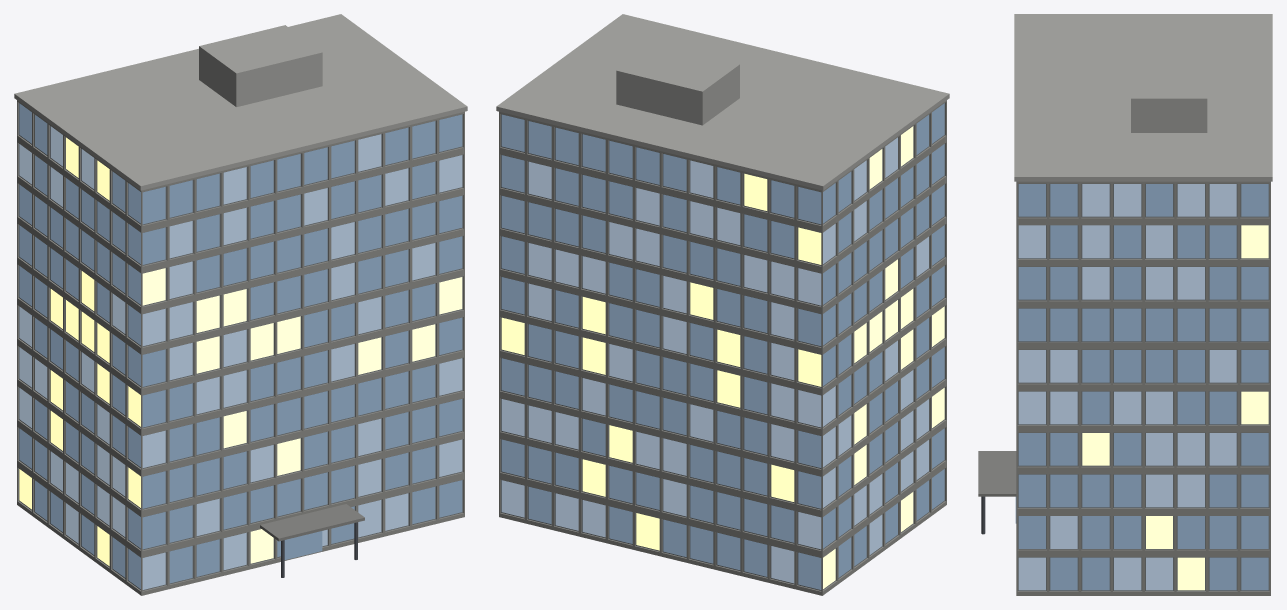
Rendered from office_glass.glb.
3 renders of one model, left to right at view 1: azimuth 30°, elevation 25°; view 2: azimuth 150°, elevation 25°; view 3: azimuth 270°, elevation 25°, orthographic. The views are drawn at different scales.
Visible parts, largest first — view 1: curtain_front, curtain_left, roof_edge, roof_unit, entrance_canopy, entrance_glass; view 2: curtain_back, curtain_left, roof_edge, roof_unit; view 3: curtain_right, roof_edge, roof_unit, entrance_canopy.
Boxes of the visible parts, box(x1,y1,x2,y2) form: curtain_front: box(141, 111, 464, 595); curtain_left: box(17, 100, 141, 595); roof_edge: box(14, 14, 467, 190); roof_unit: box(199, 25, 322, 107); entrance_canopy: box(260, 504, 364, 541); entrance_glass: box(284, 531, 322, 559); curtain_back: box(499, 111, 822, 595); curtain_left: box(822, 100, 946, 595); roof_edge: box(496, 14, 949, 190); roof_unit: box(616, 43, 739, 125); curtain_right: box(1016, 181, 1270, 595); roof_edge: box(1014, 14, 1272, 181); roof_unit: box(1131, 55, 1207, 132); entrance_canopy: box(978, 451, 1016, 496).
Size of what is drawn, in the model's own units: 30.3 by 39.4 by 23.15.
